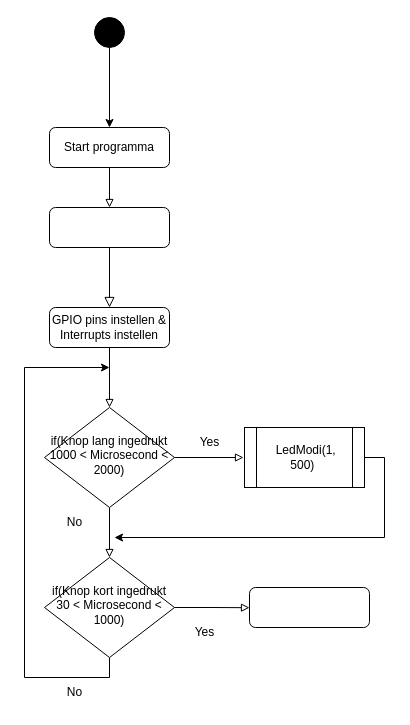
The diagram is 410 pixels wide and 725 high, and some of its shapes have lost their labels. Each missing label, with the box of its shape:
Init methodes worden uitgevoerd: (48, 206, 170, 248)
Led gaat aan - LedModi(2, 500): (248, 586, 370, 628)
